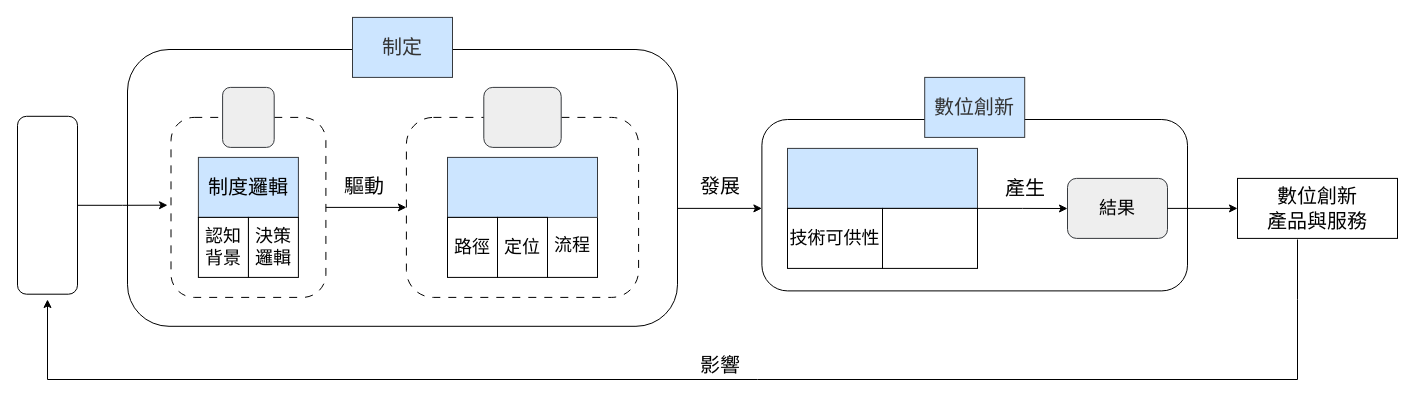
The diagram is 1415 pixels wide and 406 high, and some of its shapes have lost their labels. Each missing label, with the centre of its shape:
"動態能力" goes at point 522,186.
"可供性實現" goes at point 930,237.
"環 境" goes at point 47,204.
"科技可供性" goes at point 882,177.
"行動" goes at point 522,116.
"認知" goes at point 248,116.
